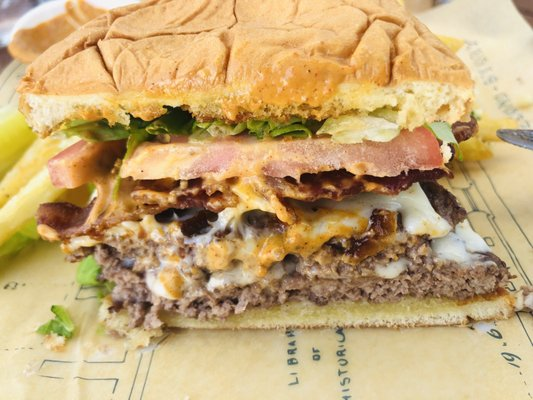soup: (3, 0, 513, 343)
